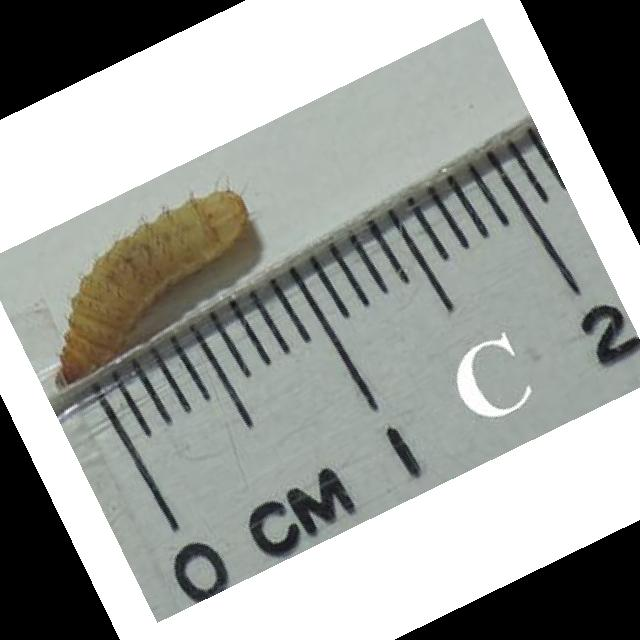Maggot: (51, 186, 257, 381)
